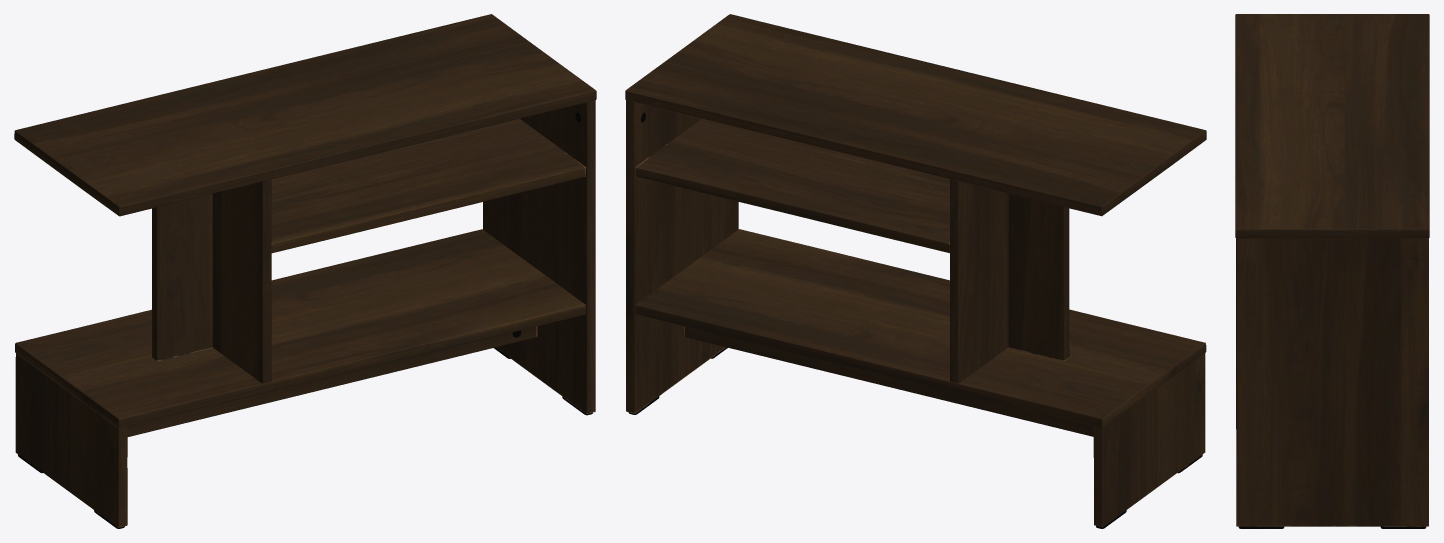
File: HOLMERUD_20538721.glb
The picture shows the model from 3 angles, left to right: view 1: azimuth 30°, elevation 25°; view 2: azimuth 150°, elevation 25°; view 3: azimuth 270°, elevation 25°; orthographic projection. The views are drawn at different scales.
Parts seen in each view (by area): view 1: 20538721-HOLMERUD001; view 2: 20538721-HOLMERUD001; view 3: 20538721-HOLMERUD001.
Part boxes in pixels (box(x1,y1,x2,y2)): 20538721-HOLMERUD001: box(14, 14, 596, 528); 20538721-HOLMERUD001: box(625, 14, 1206, 528); 20538721-HOLMERUD001: box(1235, 14, 1429, 528).
Size of the model in its own units: 0.805 by 0.523 by 0.307.
1 material, 1 textured.
